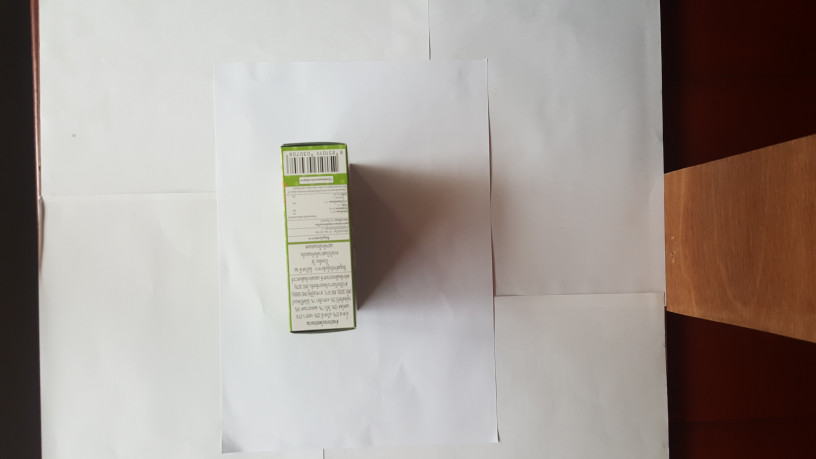collon-matcha: (279, 142, 356, 336)
